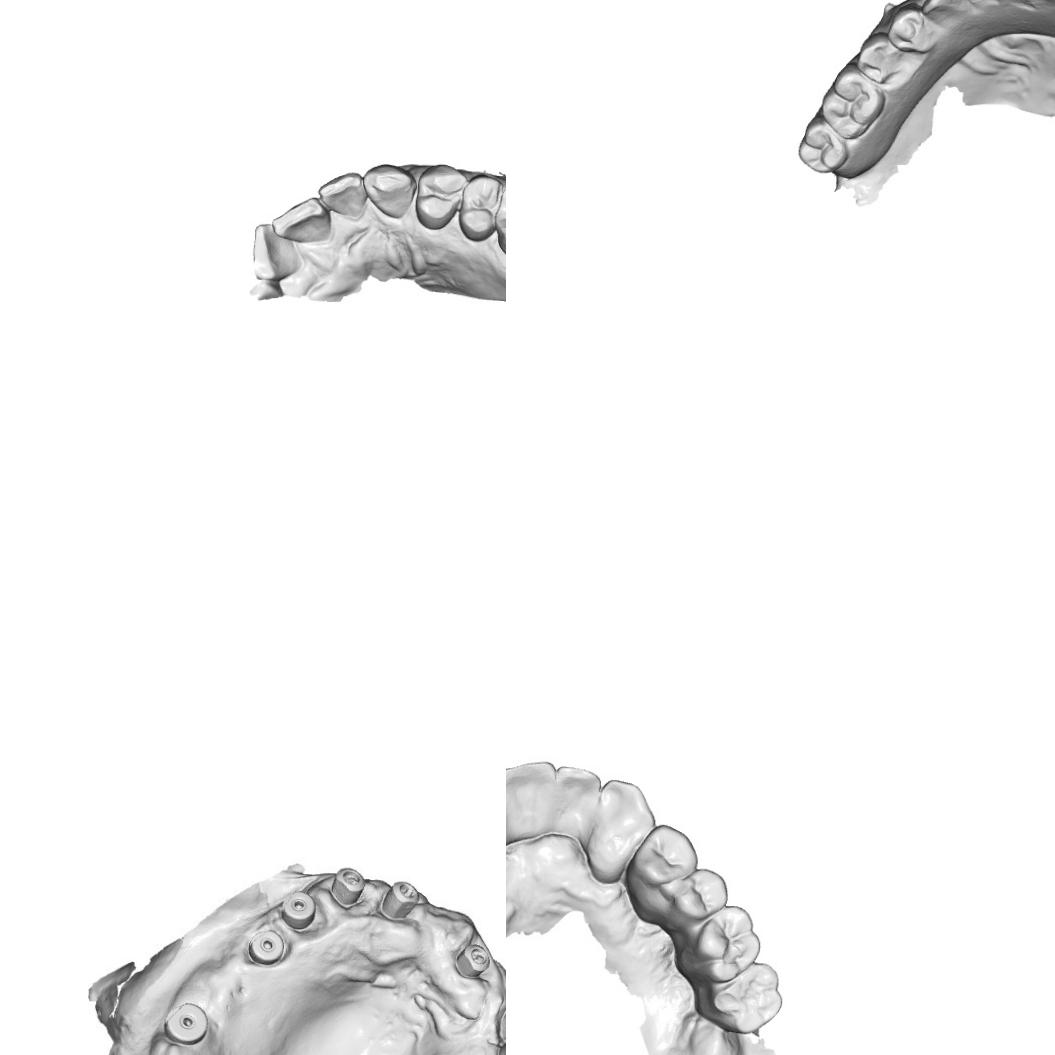canine: (594, 777, 656, 862), (359, 162, 418, 221), (918, 0, 966, 29)
implant: (164, 1000, 210, 1044), (278, 888, 317, 929), (248, 929, 286, 970), (328, 866, 366, 907), (385, 878, 422, 918), (455, 941, 492, 981), (497, 1002, 506, 1036)
incisor: (506, 760, 561, 844), (552, 764, 604, 846), (272, 194, 338, 252), (248, 220, 306, 284), (313, 167, 366, 224), (959, 0, 1010, 12)
molar: (678, 903, 766, 991), (692, 960, 785, 1036), (818, 67, 892, 145), (794, 117, 856, 176)
premolar: (624, 822, 700, 893), (850, 24, 914, 86), (412, 161, 467, 233), (669, 866, 731, 928), (454, 172, 504, 244), (885, 1, 931, 56)
